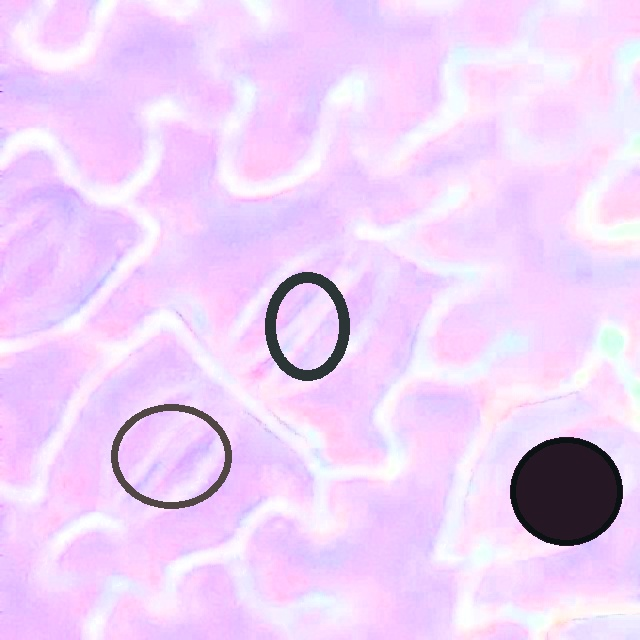open: (111, 403, 230, 508), (511, 437, 622, 545), (265, 271, 349, 380)
